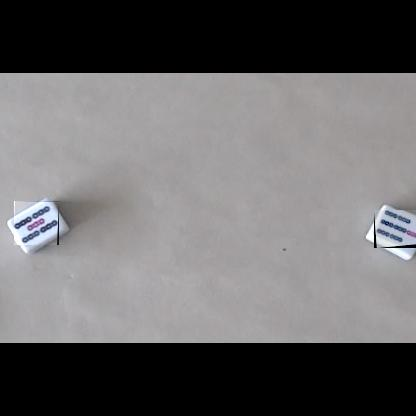5s: (14, 201, 59, 245)
7s: (374, 210, 416, 248)
